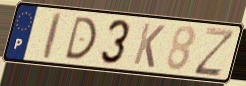3: (99, 18, 133, 67)
8: (165, 24, 198, 74)
D: (62, 15, 98, 61)
I: (41, 11, 63, 62)
K: (131, 21, 167, 70)
Z: (191, 26, 238, 79)
